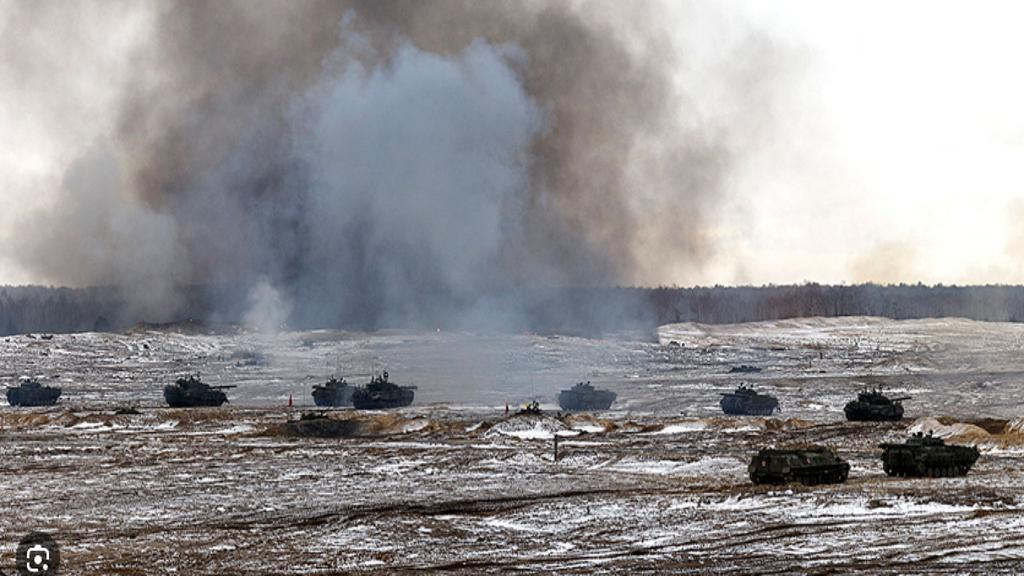APC-IFV: (745, 436, 850, 490), (880, 431, 983, 477), (558, 378, 621, 415), (716, 385, 782, 416), (2, 375, 62, 409), (310, 373, 361, 406)
TANK: (159, 368, 230, 408), (841, 385, 917, 422), (351, 378, 419, 409)
